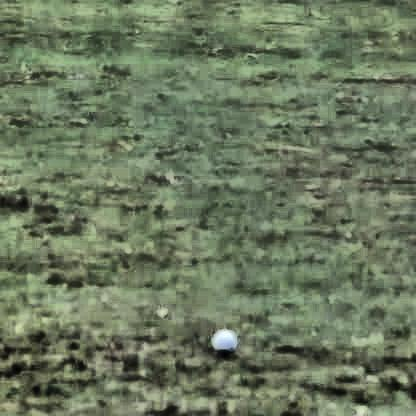golfball: (207, 326, 235, 351)
